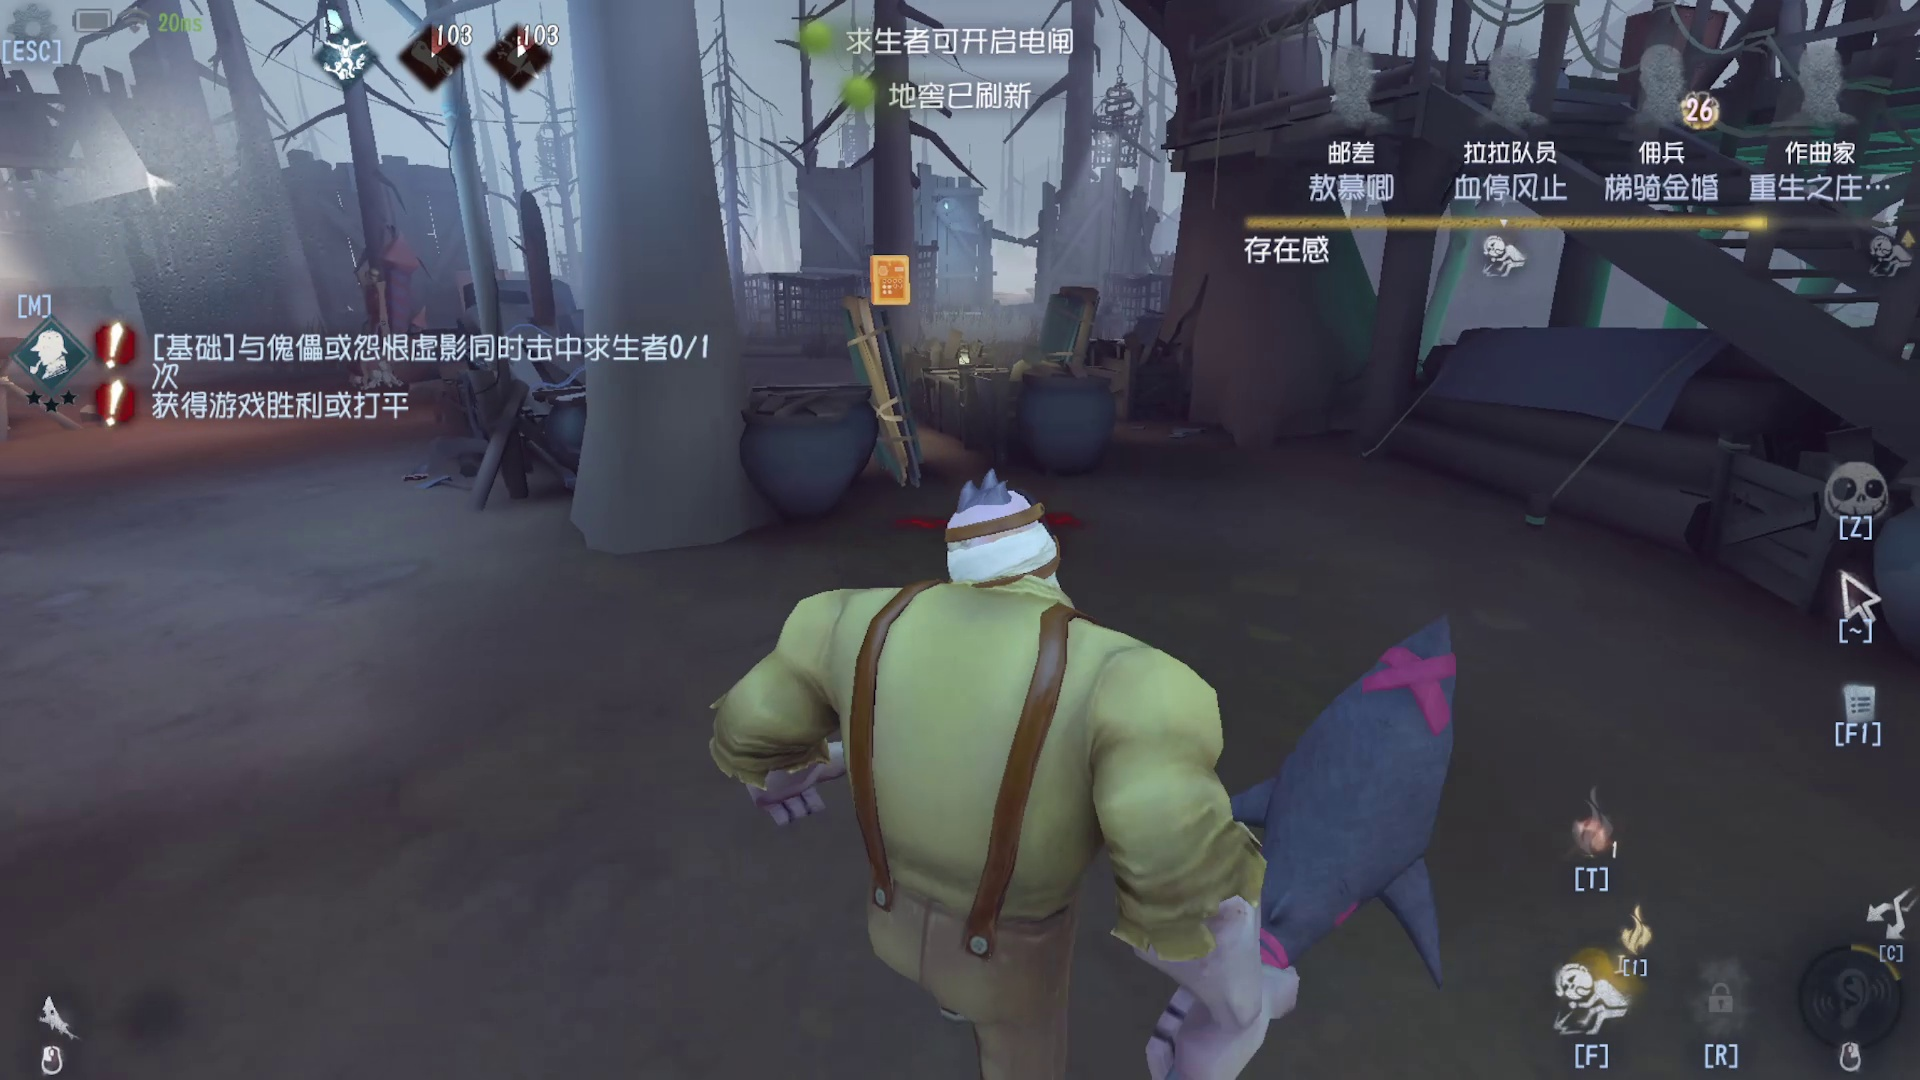木板: (832, 284, 940, 493), (1025, 280, 1097, 393)
狂欢之椅: (323, 229, 498, 414)
设置: (1, 1, 84, 74)
